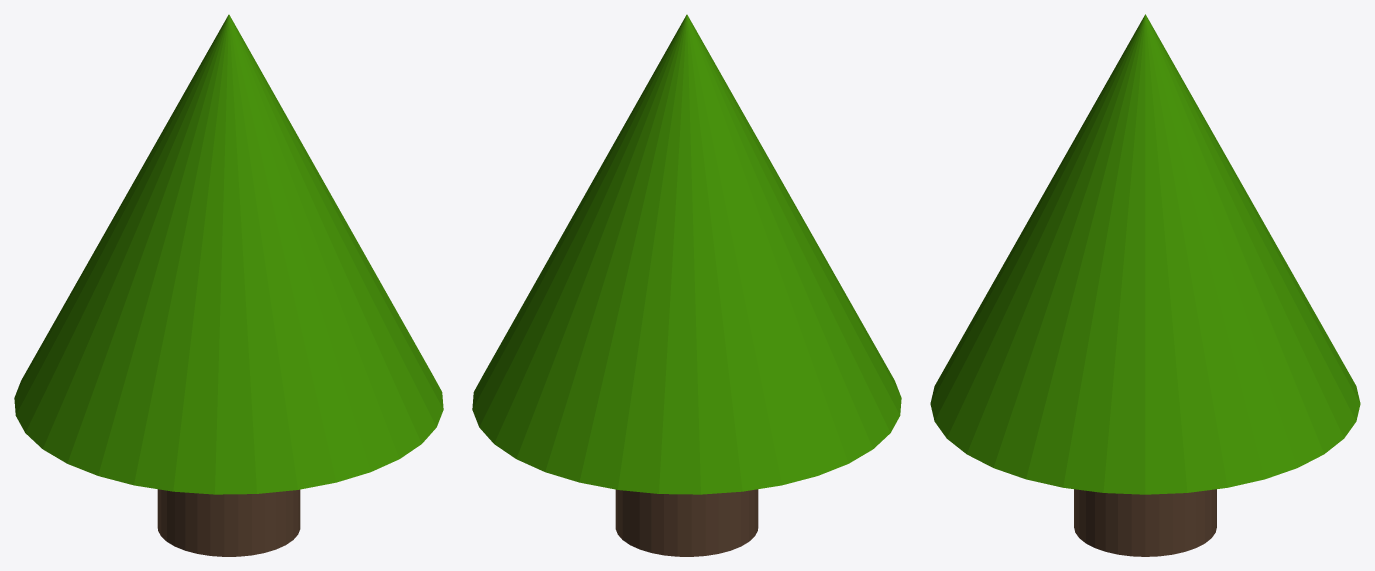
Rendered from Tree.fbx.
3 views of the same model, side by side, from view 1: azimuth 30°, elevation 25°; view 2: azimuth 150°, elevation 25°; view 3: azimuth 270°, elevation 25° (orthographic).
Parts seen in each view (by area): view 1: Cone, Cylinder; view 2: Cone, Cylinder; view 3: Cone, Cylinder.
Part boxes in pixels (x1=…): Cone: x1=14, y1=14, x2=443, y2=494; Cylinder: x1=157, y1=489, x2=300, y2=556; Cone: x1=472, y1=14, x2=901, y2=494; Cylinder: x1=615, y1=489, x2=758, y2=556; Cone: x1=930, y1=14, x2=1360, y2=494; Cylinder: x1=1074, y1=489, x2=1216, y2=556.
Bounding box in the file's own units: 115 × 151 × 115.
